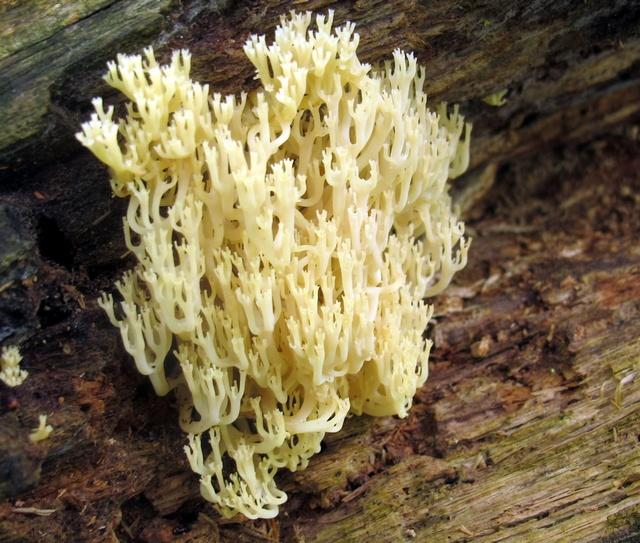edible_mushroom: (73, 7, 475, 521)
